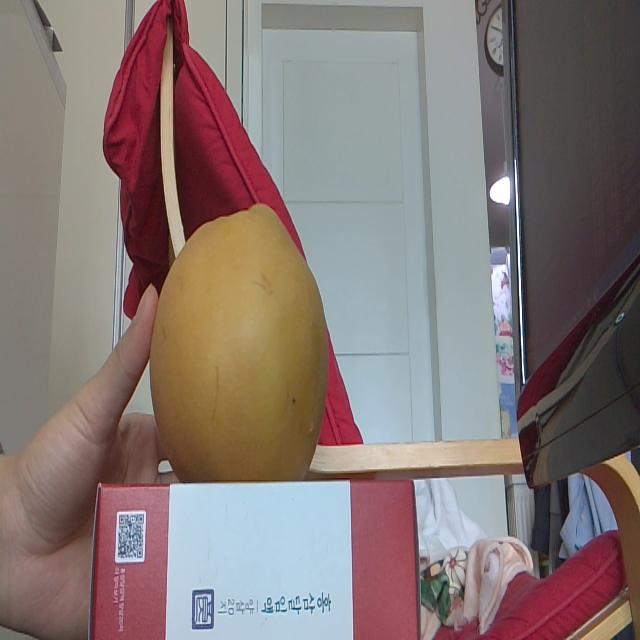pear: (148, 203, 324, 482)
